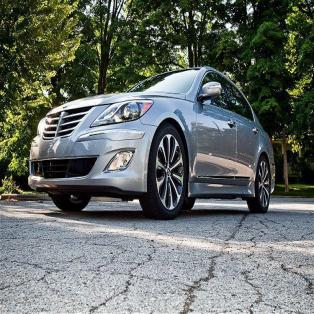Auto: (29, 66, 275, 216)
